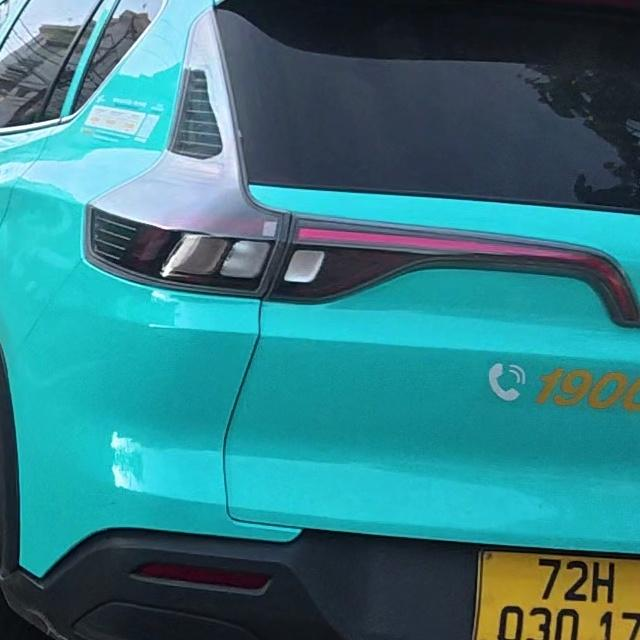license-plate: (472, 550, 639, 639)
